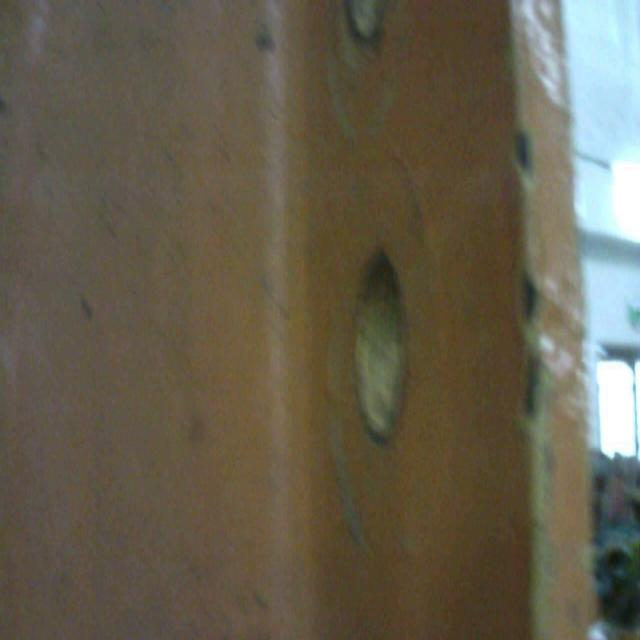Missing bolt: (353, 243, 414, 445), (350, 1, 385, 42)
